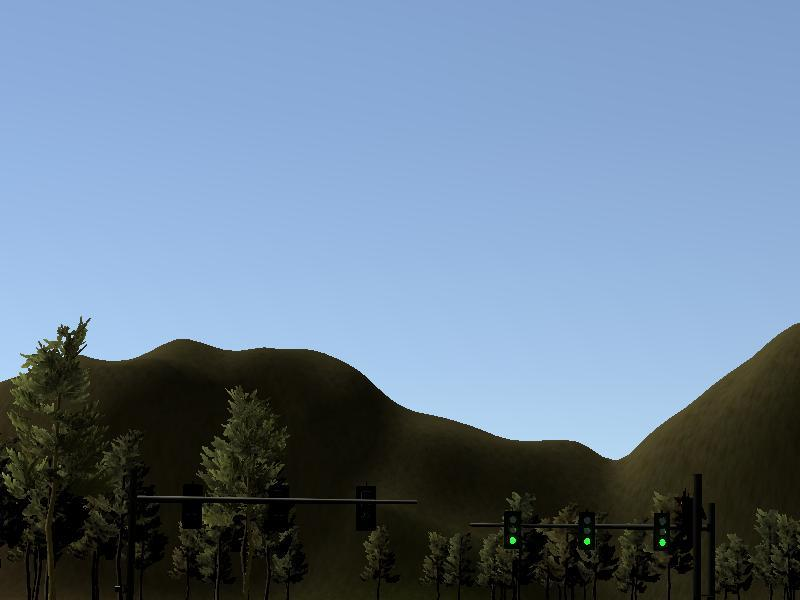Green: (579, 510, 596, 552), (653, 514, 669, 551), (505, 511, 520, 548)
